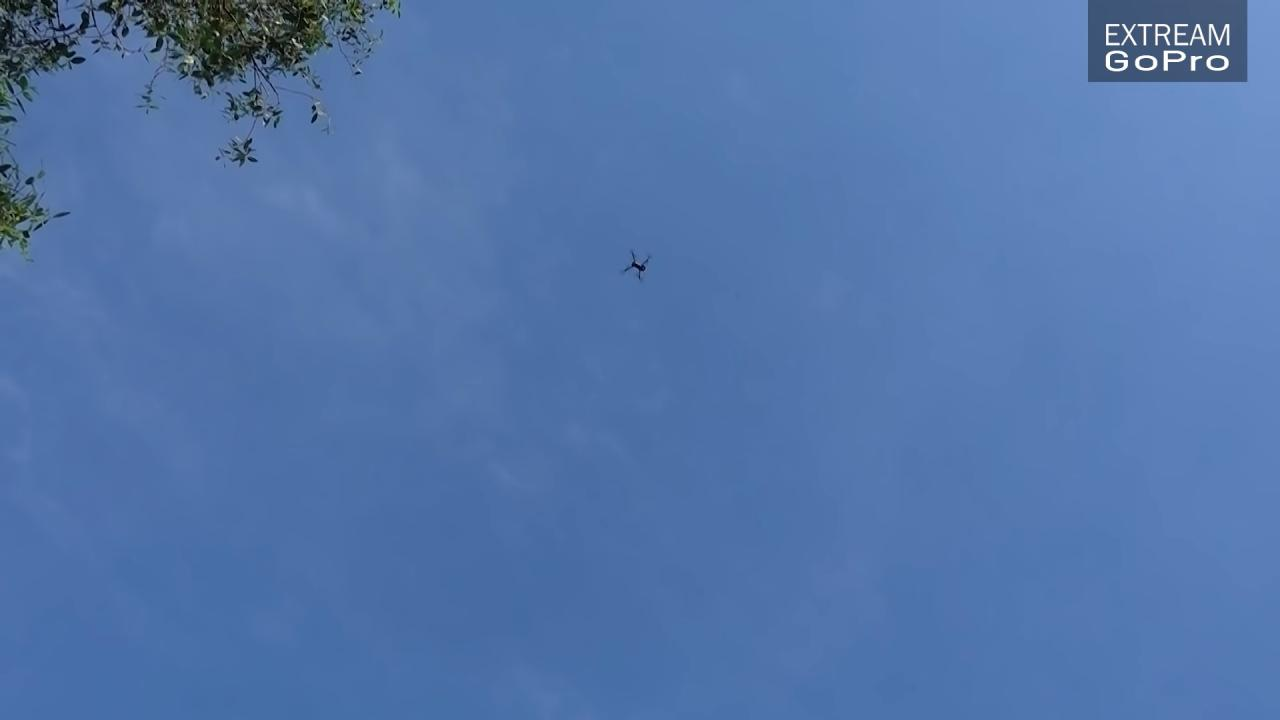Drone: (612, 242, 663, 292)
